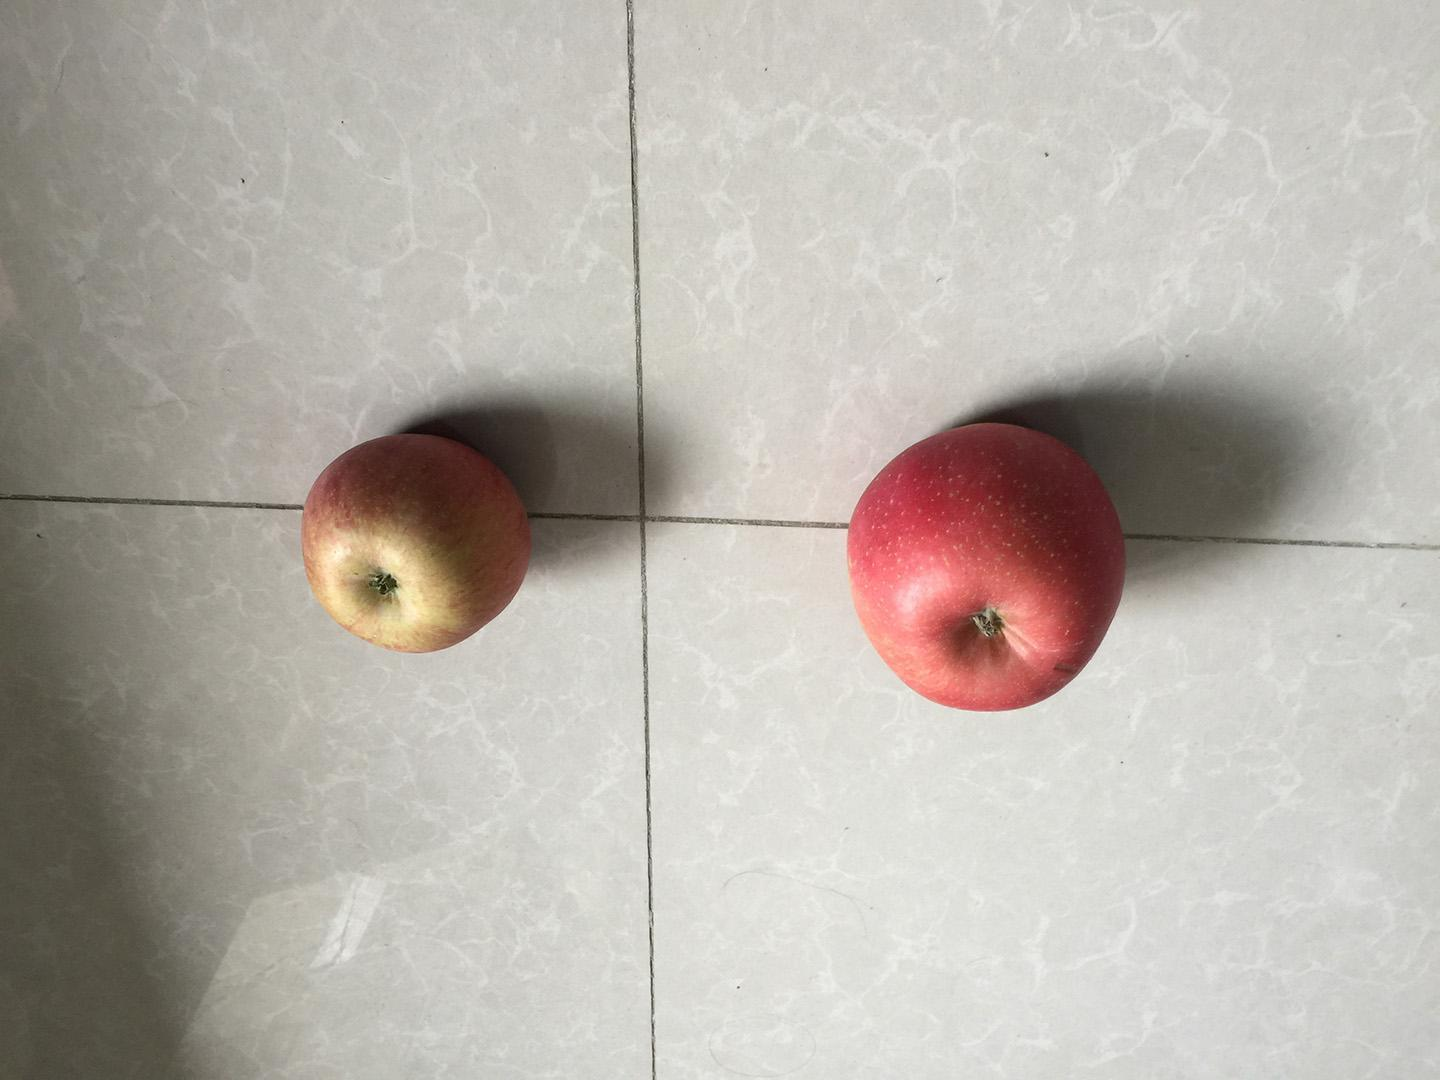apple: (840, 413, 1137, 718), (294, 427, 540, 663)
